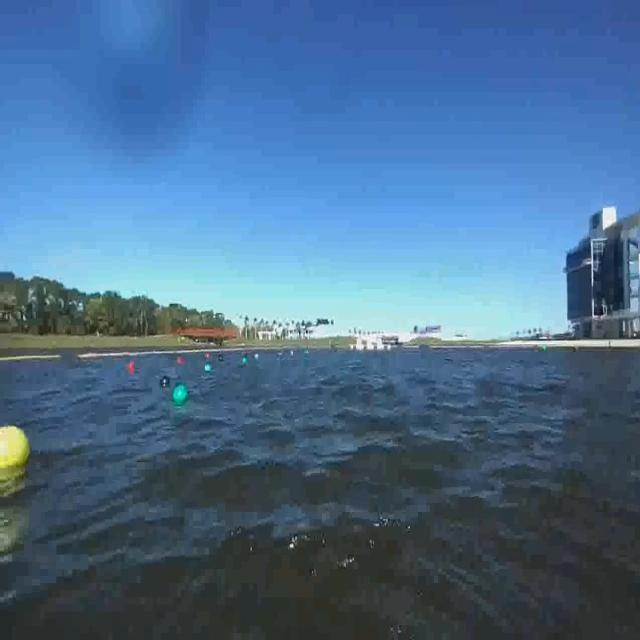black-buoy: (159, 374, 172, 391)
green-buoy: (176, 381, 191, 403)
red-buoy: (125, 362, 139, 383)
yellow-buoy: (0, 426, 31, 470)
